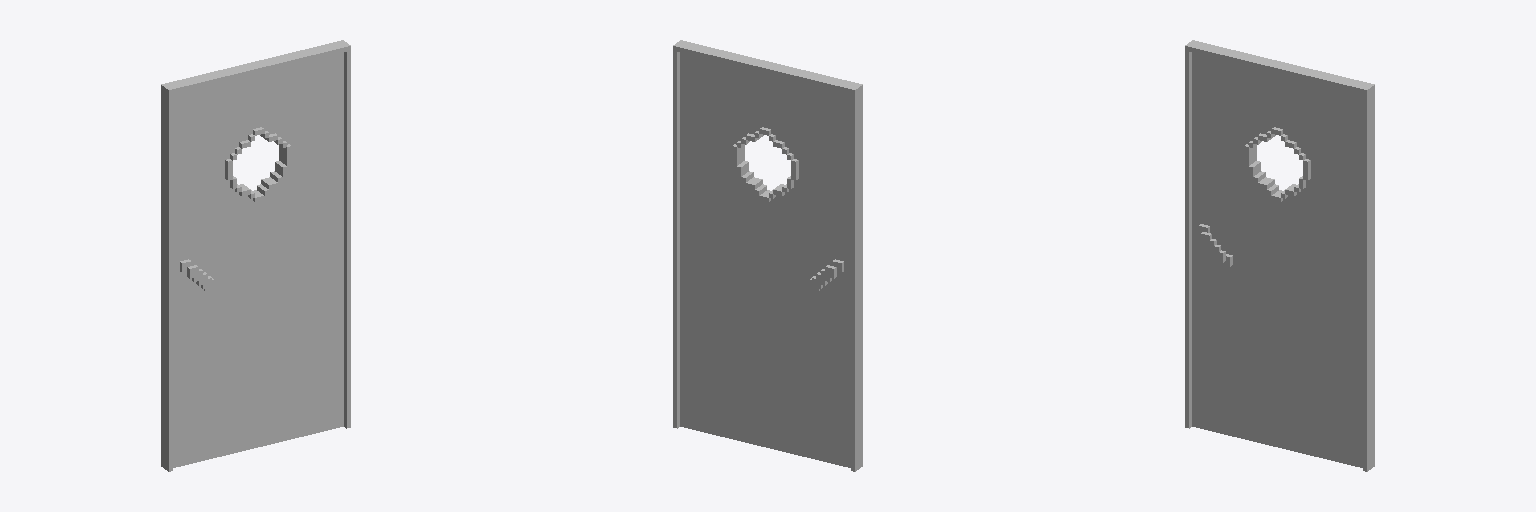
The model's file is door-1.obj.
3 views of the same model, side by side, from view 1: azimuth 30°, elevation 25°; view 2: azimuth 150°, elevation 25°; view 3: azimuth 330°, elevation 25° (orthographic).
Parts seen in each view (by area): view 1: object 1; view 2: object 1; view 3: object 1.
Boxes of the visible parts, x1,y1,x2,y2 form: object 1: [161, 40, 350, 471]; object 1: [673, 40, 862, 471]; object 1: [1185, 40, 1374, 471].
Bounding box in the file's own units: 4 × 8 × 0.5.